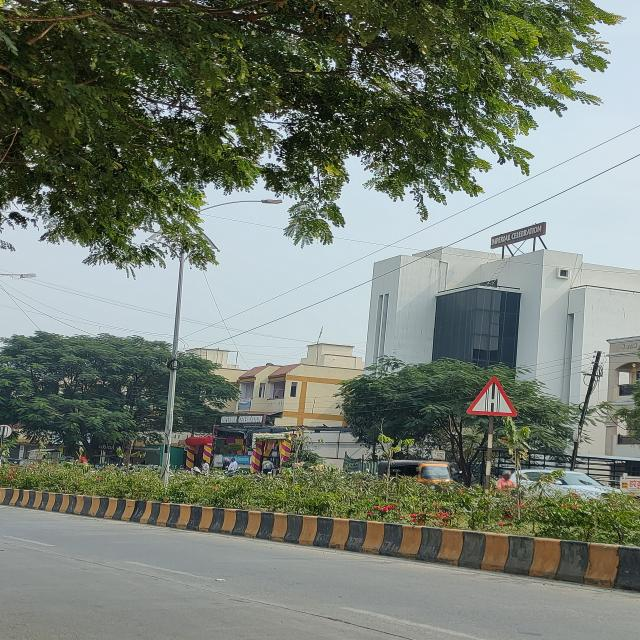ferry: (466, 375, 520, 416)
